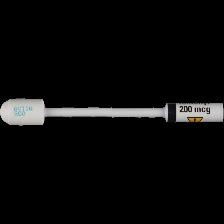63459-502: (0, 0, 224, 224)
